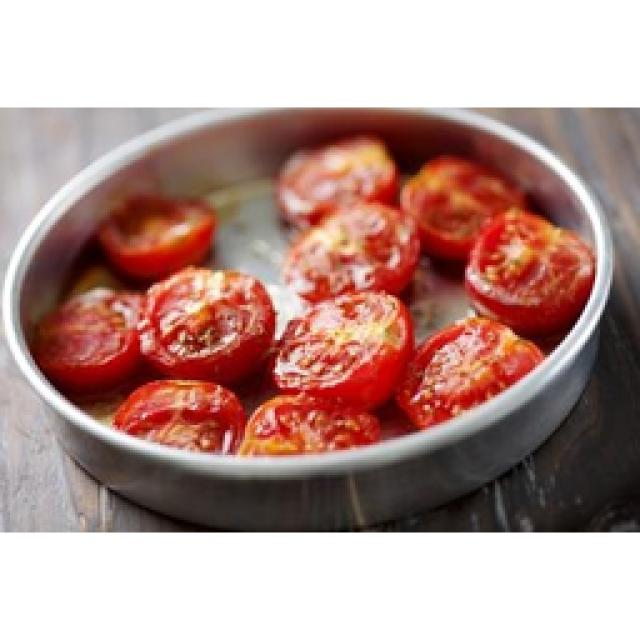alumunium: (4, 104, 623, 537)
